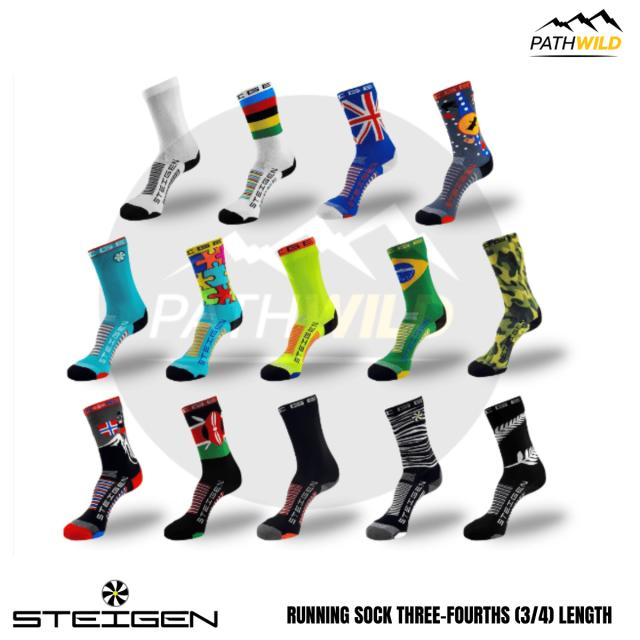sock: (256, 394, 339, 540), (463, 395, 546, 540), (367, 236, 448, 381), (67, 236, 148, 381), (120, 75, 200, 221), (414, 80, 494, 225), (163, 395, 242, 540), (63, 395, 142, 540), (260, 235, 338, 381), (218, 80, 296, 224), (365, 395, 442, 540), (166, 237, 243, 381), (467, 232, 542, 377), (322, 81, 397, 219)
